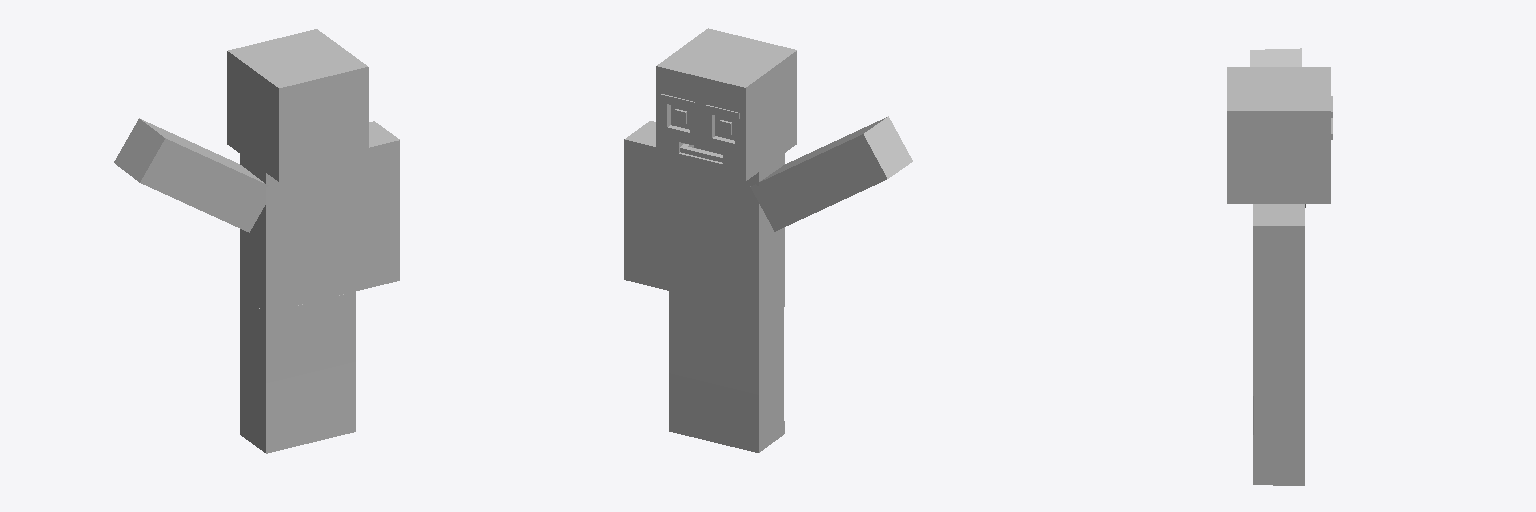
Rendered from steve_animate_000013.obj.
3 views of the same model, side by side, from view 1: azimuth 30°, elevation 25°; view 2: azimuth 150°, elevation 25°; view 3: azimuth 270°, elevation 25° (orthographic).
Visible parts, largest first — view 1: Mesh.001_Head, Body_Steve_Body.001, Leg_L_Leg_L.001, Arm_L_Arm_L.001, Arm_R_Arm_R.001, Leg_R_Leg_R.001; view 2: Mesh.001_Head, Body_Steve_Body.001, Leg_L_Leg_L.001, Arm_L_Arm_L.001, Arm_R_Arm_R.001, Leg_R_Leg_R.001; view 3: Mesh.001_Head, Arm_R_Arm_R.001, Leg_R_Leg_R.001, Arm_L_Arm_L.001.
Boxes of the visible parts, x1,y1,x2,y2 form: Mesh.001_Head: [227, 29, 368, 181]; Body_Steve_Body.001: [240, 154, 355, 312]; Leg_L_Leg_L.001: [240, 295, 310, 453]; Arm_L_Arm_L.001: [114, 118, 268, 232]; Arm_R_Arm_R.001: [356, 121, 399, 290]; Leg_R_Leg_R.001: [311, 292, 355, 442]; Mesh.001_Head: [656, 28, 796, 181]; Body_Steve_Body.001: [669, 153, 784, 312]; Leg_L_Leg_L.001: [714, 294, 784, 452]; Arm_L_Arm_L.001: [750, 116, 912, 231]; Arm_R_Arm_R.001: [624, 121, 668, 290]; Leg_R_Leg_R.001: [669, 291, 713, 441]; Mesh.001_Head: [1227, 67, 1330, 203]; Arm_R_Arm_R.001: [1253, 204, 1304, 366]; Leg_R_Leg_R.001: [1253, 367, 1304, 485]; Arm_L_Arm_L.001: [1250, 48, 1305, 207].
Size of the model in its own units: 4.69 by 6.4 by 1.62.